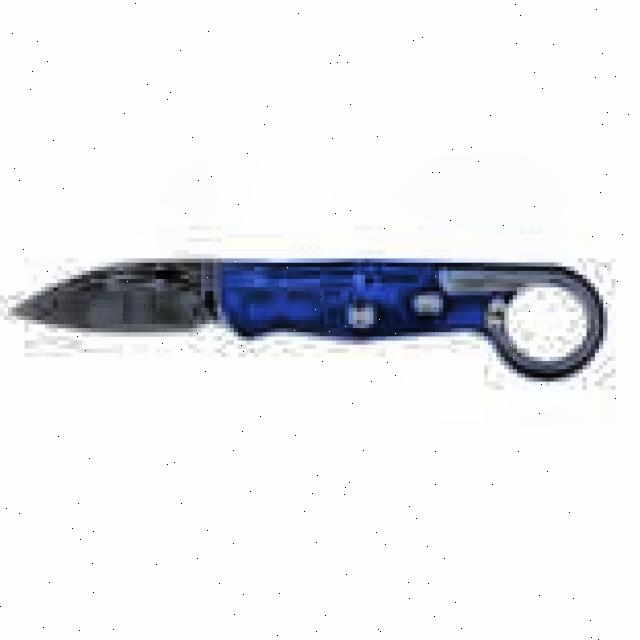knife: (14, 262, 606, 384)
